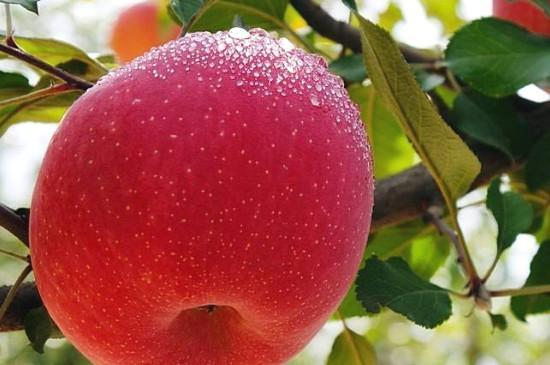apple: (14, 25, 370, 356)
